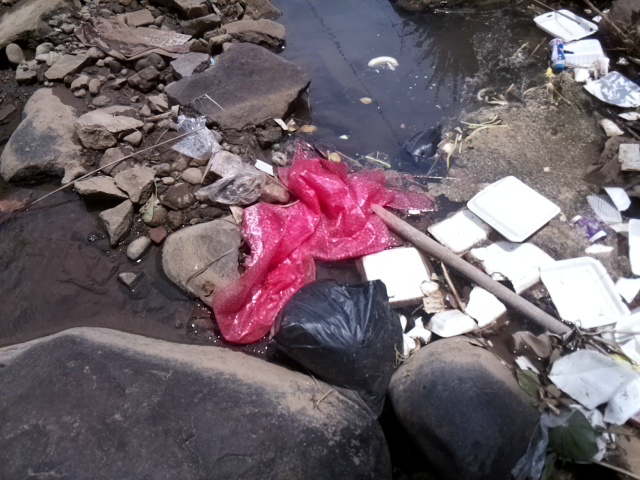Sampah_Botol_Plastik: (546, 36, 571, 76)
Sampah_Plastik: (204, 150, 428, 347), (267, 277, 407, 411), (193, 163, 271, 205), (406, 123, 443, 169), (170, 119, 217, 155)
Sampah_Styrofoam: (535, 255, 633, 332), (467, 173, 569, 245), (545, 347, 640, 424), (352, 243, 443, 308), (461, 239, 549, 293), (428, 287, 512, 343), (427, 206, 493, 251), (532, 8, 599, 40), (556, 36, 609, 71), (594, 183, 632, 224)
